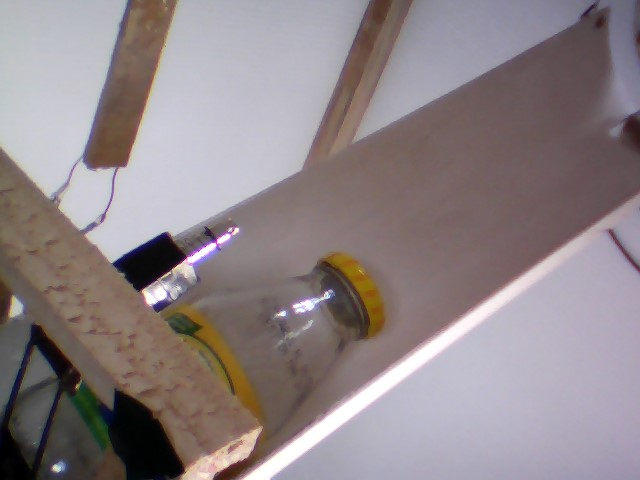vidrio: (186, 246, 392, 440)
